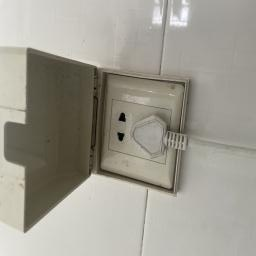outlet: (88, 74, 192, 204)
